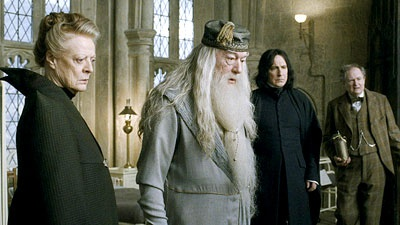bad: (64, 46, 108, 89)
